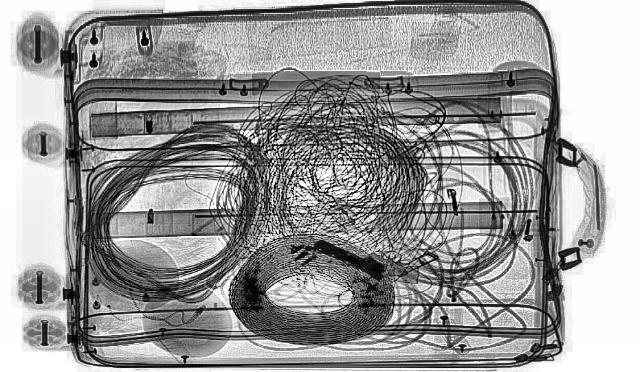Gun: (298, 226, 440, 288)
